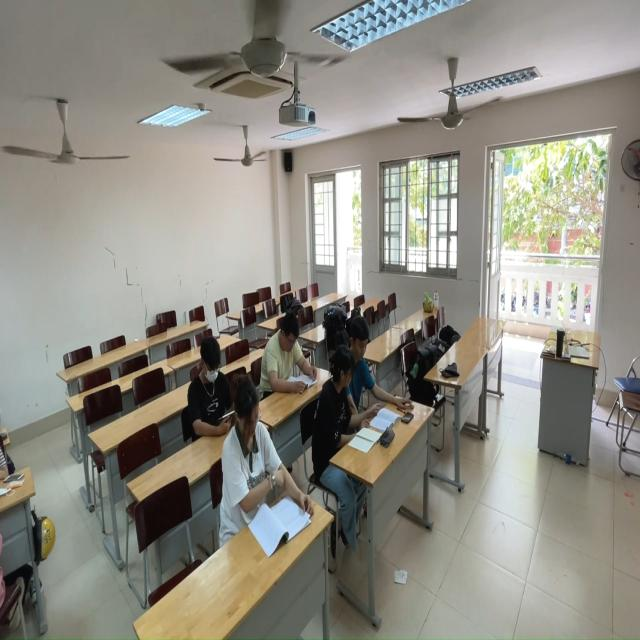read: (219, 377, 316, 550), (346, 316, 413, 419), (315, 347, 364, 478), (184, 334, 243, 437), (260, 311, 321, 395)
